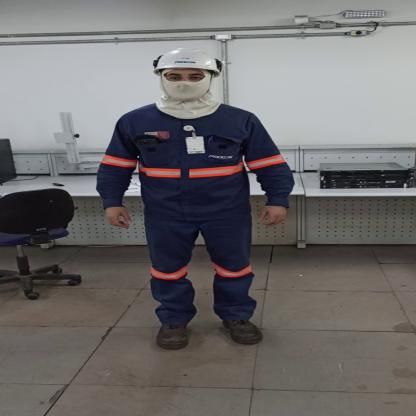Balaclava: (148, 72, 232, 119)
Capacete: (142, 44, 230, 75)
